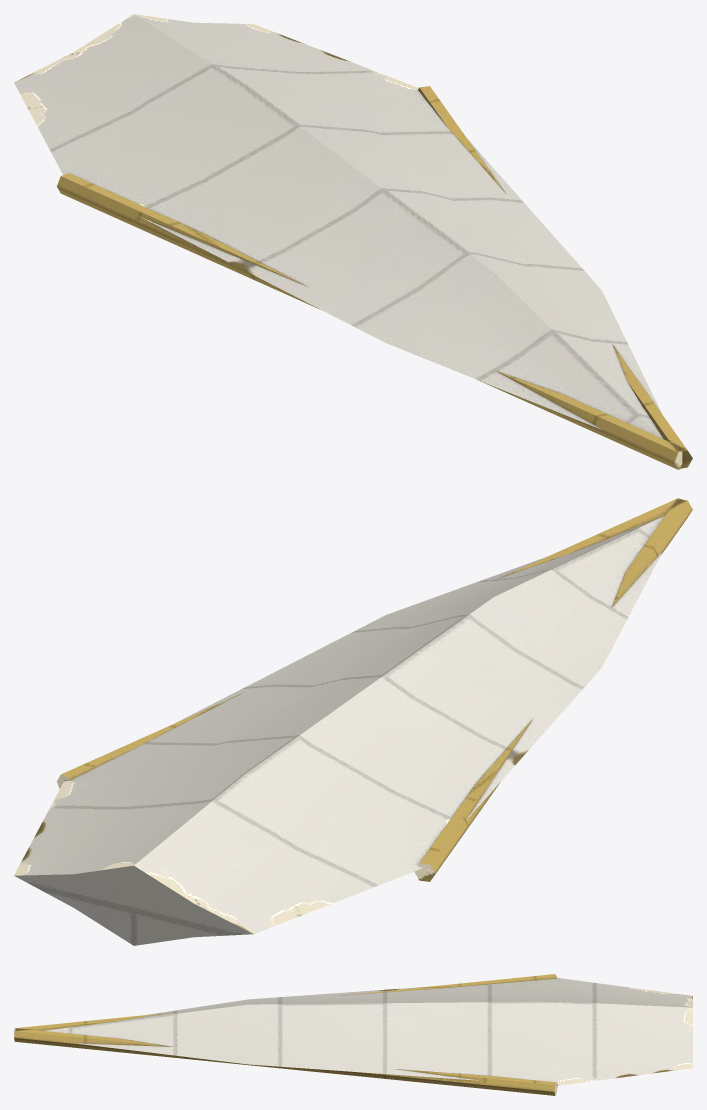
Rendered from seraphine_craft.glb.
The picture shows the model from 3 angles, top to bottom: view 1: azimuth 30°, elevation 25°; view 2: azimuth 150°, elevation 25°; view 3: azimuth 270°, elevation 25°; orthographic projection. The views are drawn at different scales.
Parts seen in each view (by area): view 1: HULL; view 2: HULL; view 3: HULL.
Part boxes in pixels (<box>): HULL: <box>14,14,692,469</box>; HULL: <box>14,498,692,945</box>; HULL: <box>14,974,692,1095</box>.
Size of the model in its own units: 2.08 by 0.528 by 5.24.
Materials: 1 (1 with a texture image).
